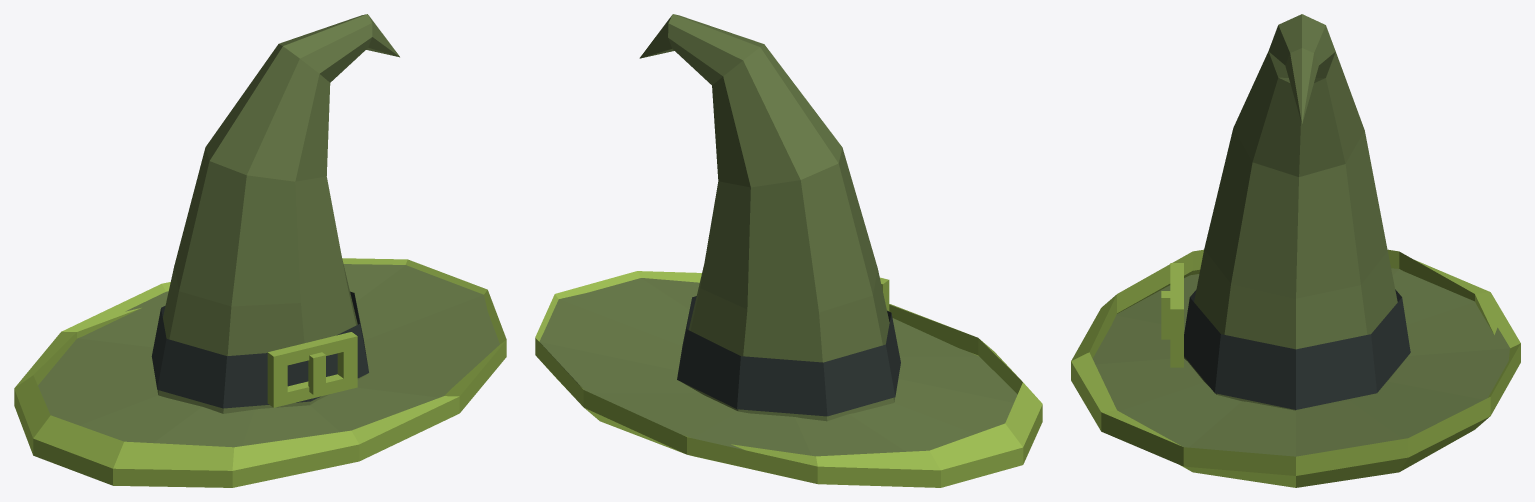
3 renders of one model, left to right at view 1: azimuth 30°, elevation 25°; view 2: azimuth 150°, elevation 25°; view 3: azimuth 270°, elevation 25°, orthographic. The views are drawn at different scales.
Visible parts, largest first — view 1: Copa dobrada, Aba em planos, Borda da aba, Faixa, Fecho, Trava do fecho; view 2: Copa dobrada, Aba em planos, Borda da aba, Faixa; view 3: Copa dobrada, Aba em planos, Borda da aba, Faixa, Fecho, Trava do fecho.
Part boxes in pixels (box(x1,y1,x2,y2)): Copa dobrada: box(157, 14, 399, 413); Aba em planos: box(38, 264, 499, 447); Borda da aba: box(14, 258, 506, 487); Faixa: box(151, 291, 368, 408); Fecho: box(267, 332, 357, 407); Trava do fecho: box(308, 352, 325, 394); Copa dobrada: box(639, 14, 895, 421); Aba em planos: box(539, 278, 1017, 456); Borda da aba: box(535, 271, 1042, 487); Faixa: box(677, 296, 900, 416); Copa dobrada: box(1184, 14, 1407, 410); Aba em planos: box(1092, 268, 1510, 456); Borda da aba: box(1071, 249, 1520, 487); Faixa: box(1184, 289, 1410, 409); Fecho: box(1170, 263, 1183, 367); Trava do fecho: box(1161, 291, 1170, 339).
Bounding box in the file's own units: 1.95 × 1.47 × 1.47.
